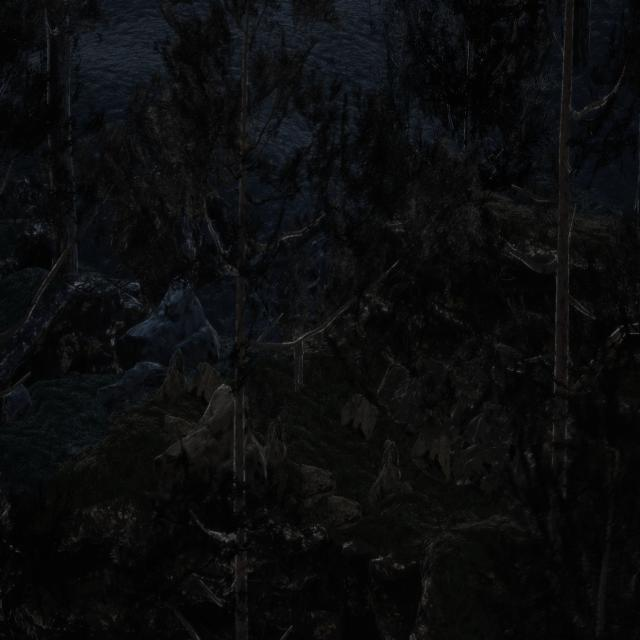Human: (285, 298, 309, 408)
